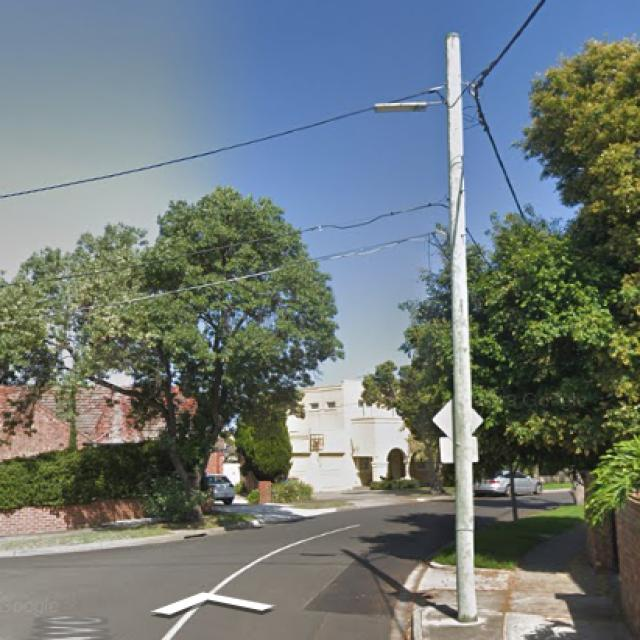streetlight: (375, 100, 447, 112)
timber-pole: (445, 32, 479, 624)
